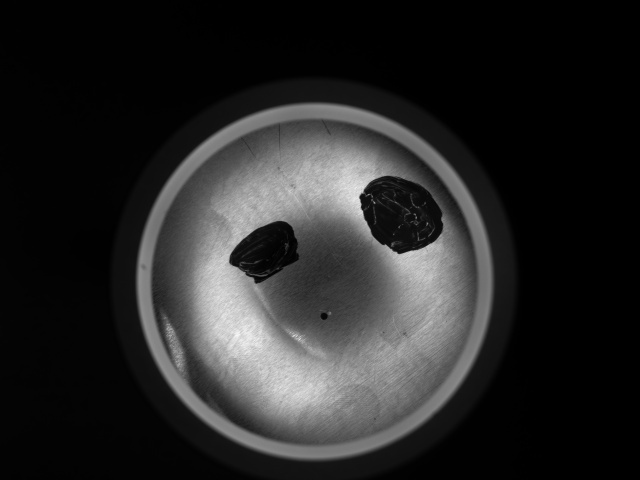zang_wu: (358, 174, 443, 255), (226, 219, 302, 284)
zhen_kong: (314, 307, 332, 323)
